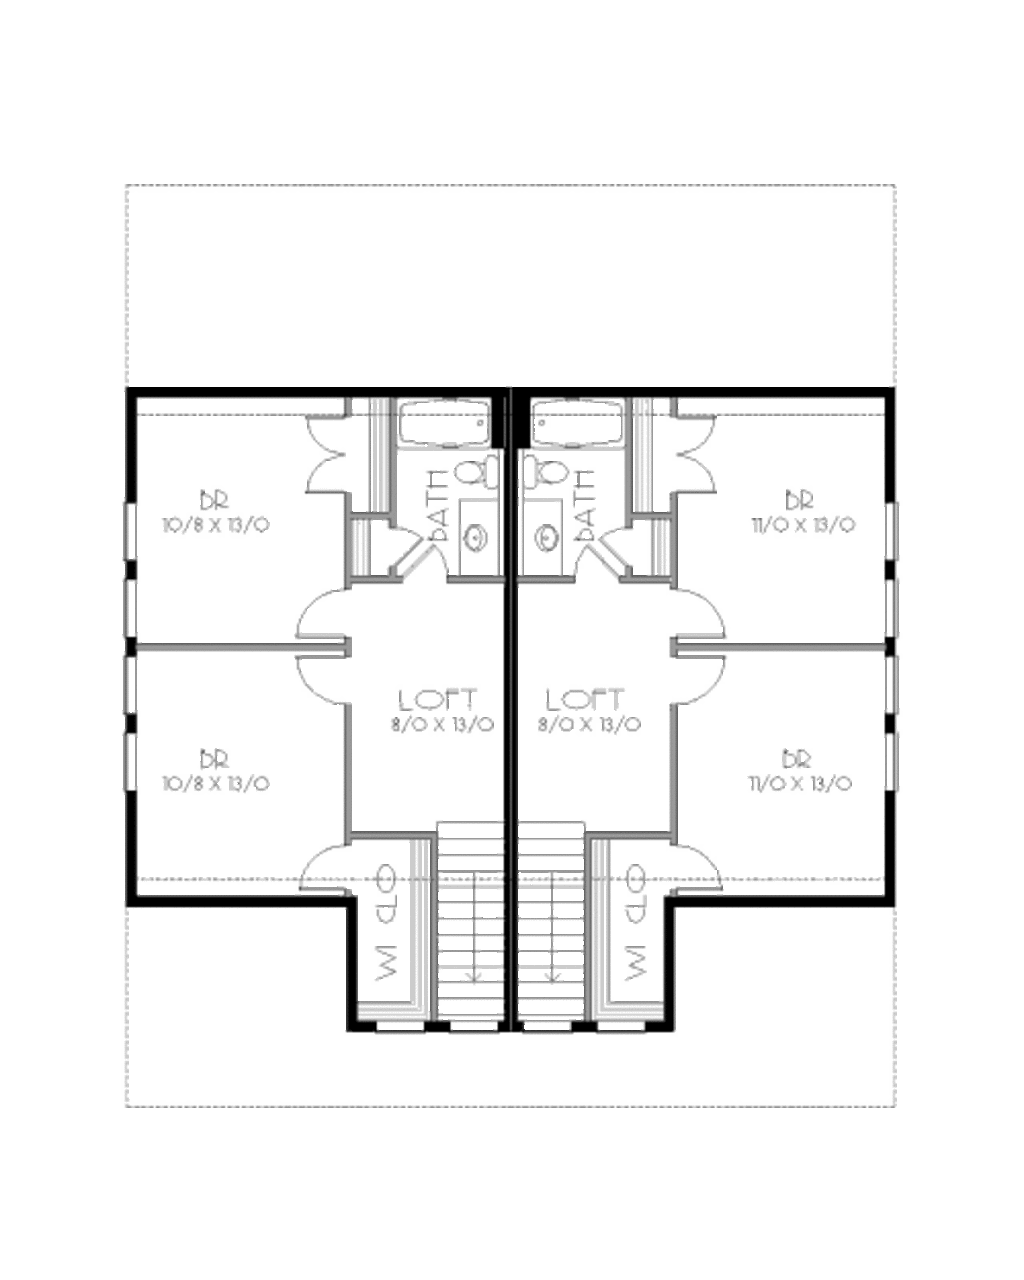door: (671, 650, 753, 726), (289, 572, 369, 650), (655, 402, 719, 498), (285, 648, 369, 716), (299, 406, 360, 498), (287, 830, 360, 897), (669, 584, 735, 654), (597, 510, 659, 572), (669, 827, 729, 890), (381, 504, 427, 578), (389, 548, 473, 586), (567, 546, 625, 588)
large_sink: (441, 450, 523, 498), (511, 446, 581, 501)
small_sink: (459, 498, 503, 596), (519, 496, 563, 580)
stairs: (503, 810, 607, 1022), (427, 828, 521, 1020)
tub: (393, 396, 495, 453), (535, 396, 633, 450)
window: (875, 488, 920, 806), (121, 502, 147, 796), (363, 1016, 669, 1035)
